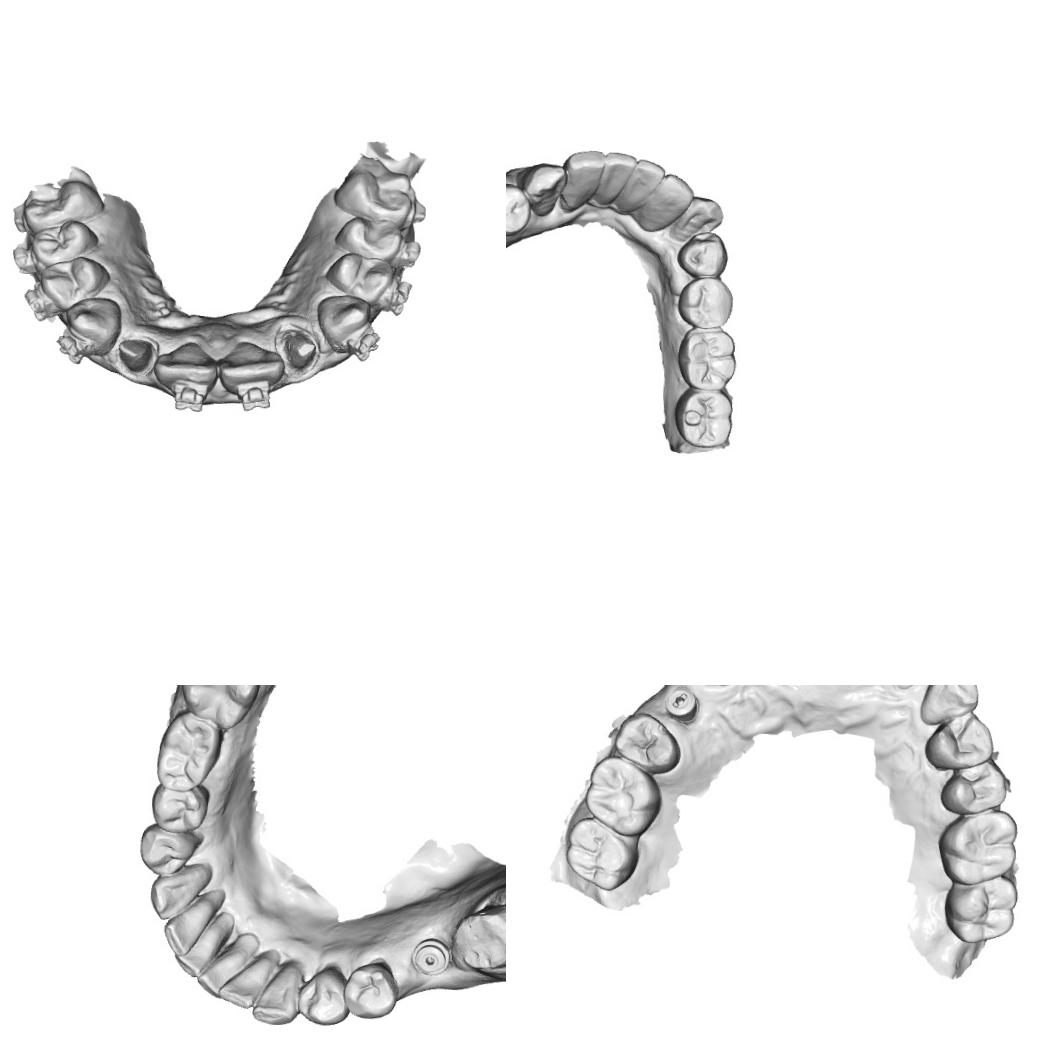canine: (250, 961, 304, 1028), (63, 294, 120, 355), (316, 294, 374, 352), (514, 162, 568, 218), (670, 193, 726, 246), (148, 870, 204, 922), (918, 685, 981, 728)
crown: (450, 900, 506, 976), (279, 327, 324, 372), (112, 336, 156, 372)
implant: (410, 935, 450, 976)
implant_minus: (662, 685, 700, 722)
incisor: (157, 339, 225, 389), (559, 148, 606, 216), (222, 340, 282, 386), (196, 946, 248, 998), (645, 172, 696, 225), (592, 150, 638, 208), (215, 961, 266, 1011), (160, 902, 205, 958), (622, 156, 666, 205), (174, 931, 216, 977)
molar: (581, 752, 664, 840), (934, 806, 1020, 888), (562, 813, 640, 894), (154, 707, 225, 794), (941, 872, 1020, 946), (332, 165, 414, 225), (19, 178, 104, 233), (674, 326, 739, 391), (177, 685, 263, 733), (672, 387, 734, 449)
premolar: (922, 708, 997, 774), (611, 711, 683, 776), (936, 758, 1009, 820), (324, 250, 397, 305), (36, 254, 112, 306), (342, 958, 400, 1022), (136, 824, 201, 880), (296, 964, 352, 1029), (30, 217, 101, 267), (148, 782, 210, 836), (332, 215, 406, 260), (675, 276, 735, 330), (675, 230, 729, 278), (506, 181, 532, 238)
